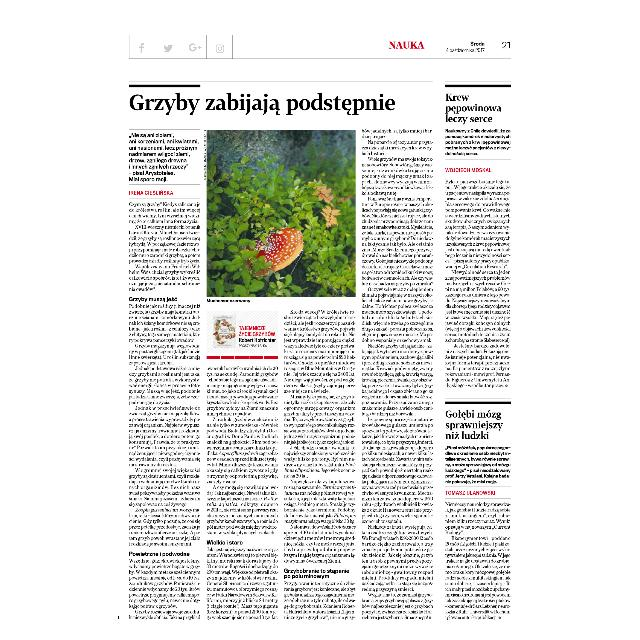article: (128, 83, 434, 622), (444, 84, 514, 390), (443, 401, 515, 624)
